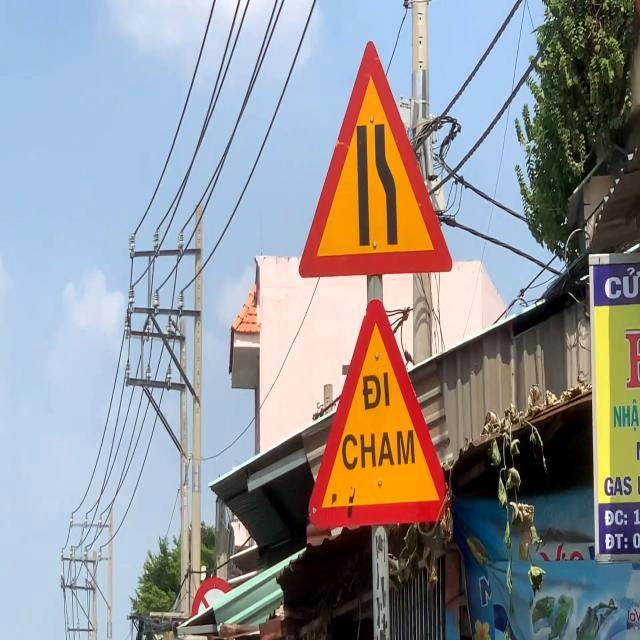Di cham: (306, 298, 454, 529)
Giao nhau voi duong khong uu tien ben trai: (296, 40, 454, 280)
